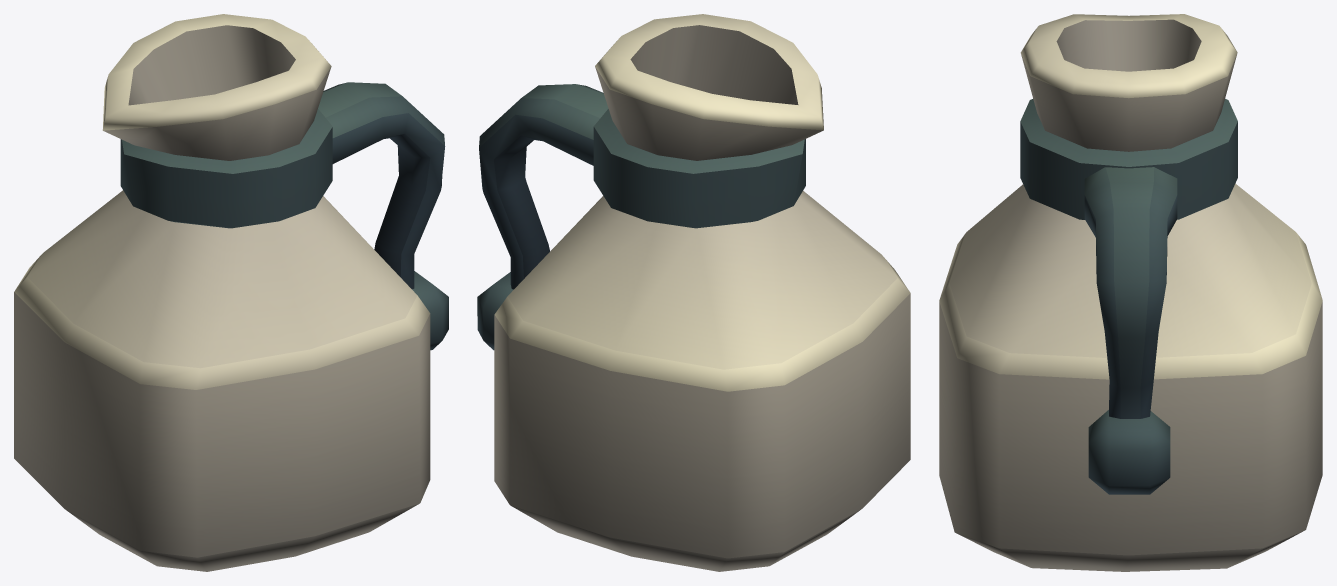
File: jug_water.fbx
3 views of the same model, side by side, from view 1: azimuth 30°, elevation 25°; view 2: azimuth 150°, elevation 25°; view 3: azimuth 270°, elevation 25° (orthographic). The views are drawn at different scales.
Visible parts, largest first — view 1: jug_water; view 2: jug_water; view 3: jug_water.
Part boxes in pixels (x1,y1,x2,y2): jug_water: (14,14,448,571); jug_water: (477,14,910,571); jug_water: (939,14,1322,571).
Bounding box in the file's own units: 44.65 × 50.98 × 37.84.
